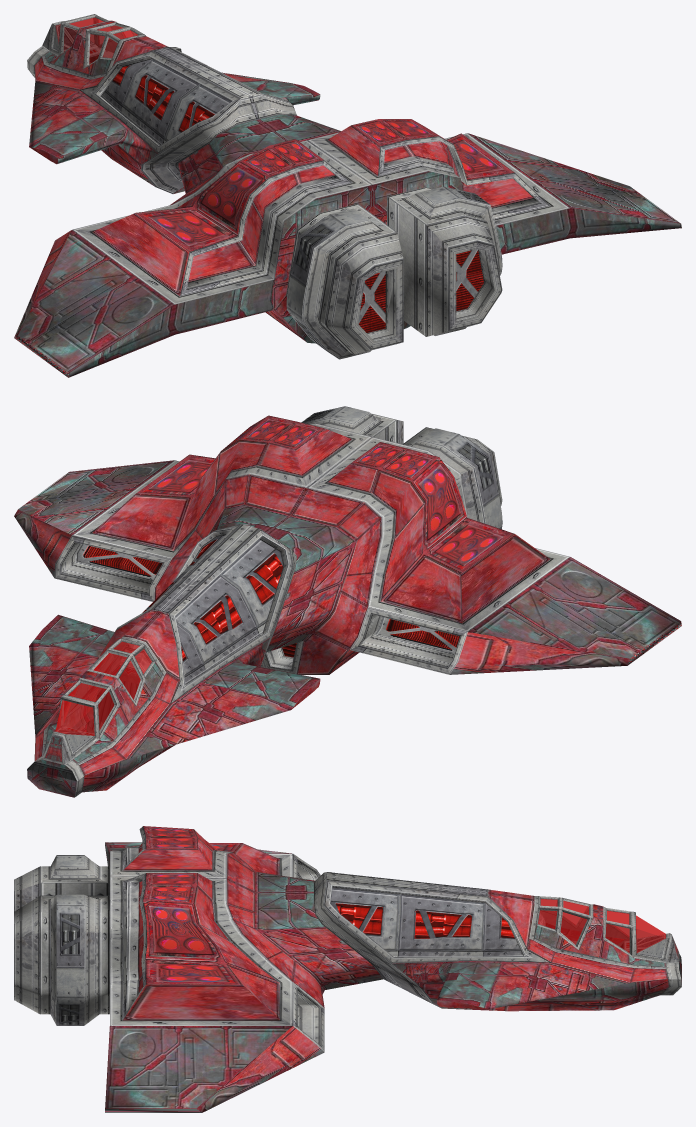
The model's file is frx.obj.
3 views of the same model, one above another, from view 1: azimuth 30°, elevation 25°; view 2: azimuth 150°, elevation 25°; view 3: azimuth 270°, elevation 25° (orthographic). The views are drawn at different scales.
Visible parts, largest first — view 1: ships; view 2: ships; view 3: ships.
Part boxes in pixels (x1=…): ships: x1=14, y1=14, x2=681, y2=377; ships: x1=14, y1=406, x2=681, y2=797; ships: x1=14, y1=826, x2=681, y2=1112.
Bounding box in the file's own units: 19.81 × 5.3 × 20.94.
6 materials, 5 textured.
